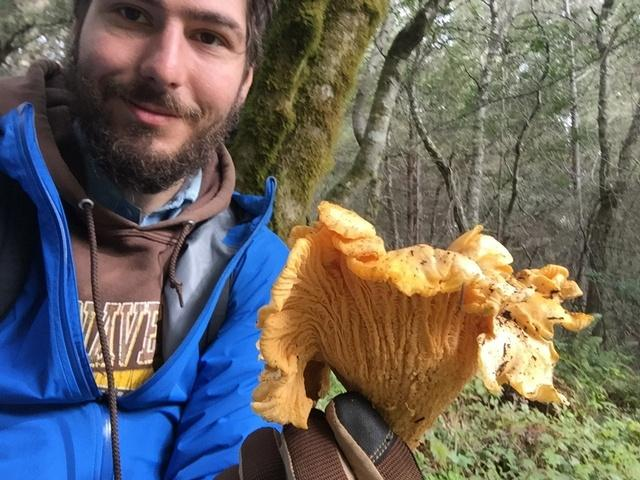edible_mushroom: (249, 198, 595, 450)
